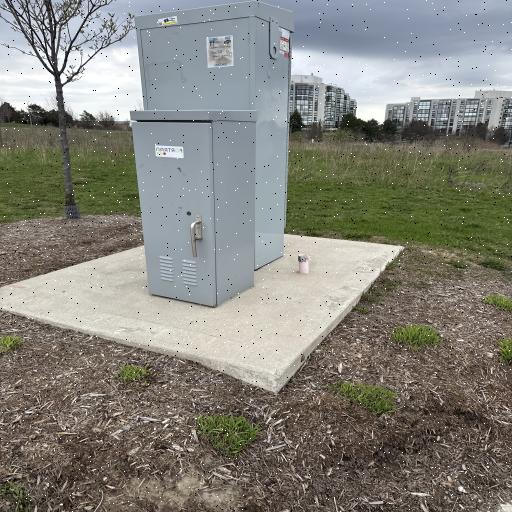Electrical Box: (130, 0, 296, 305)
